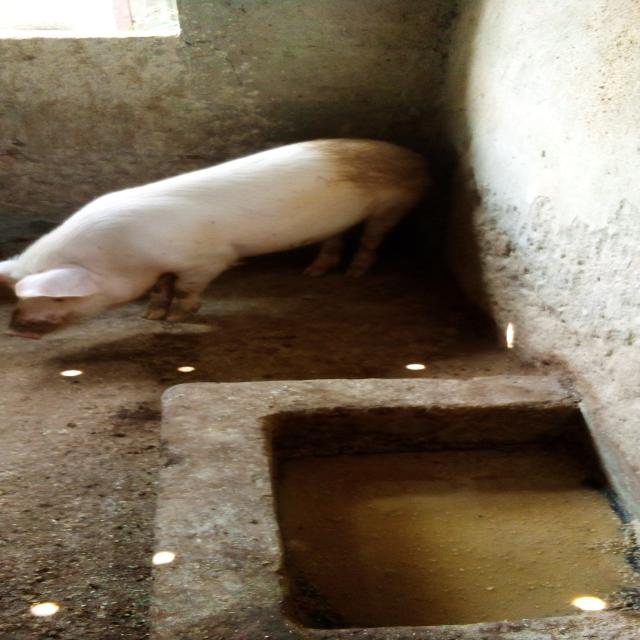pig: (0, 106, 524, 359)
